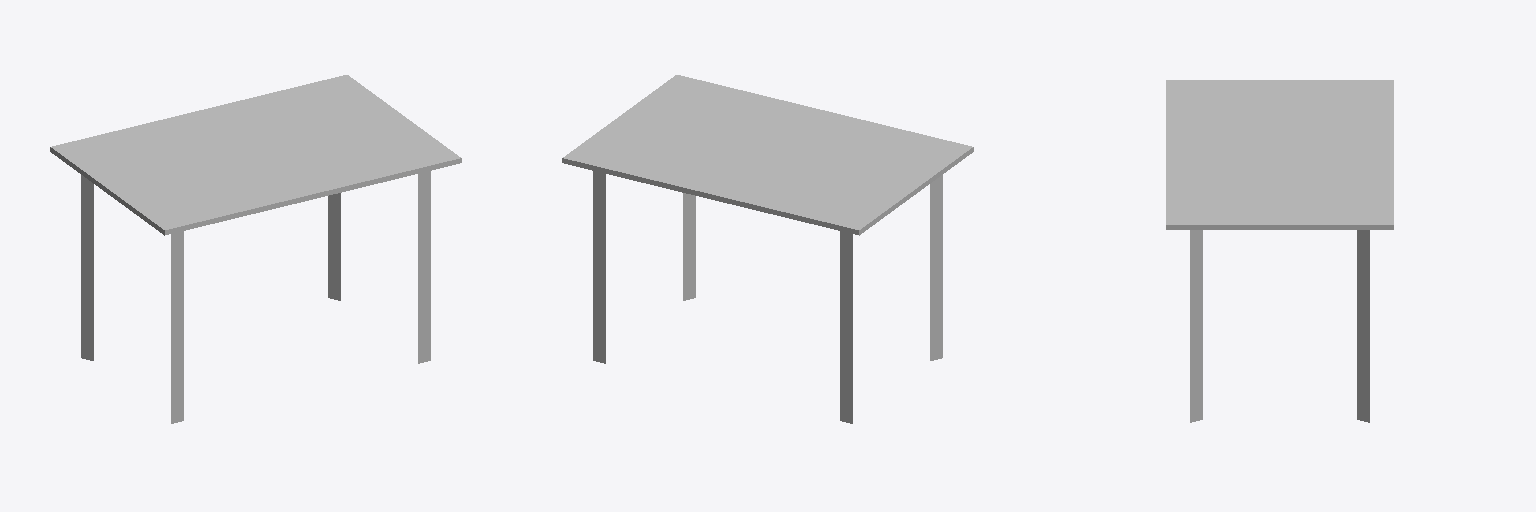
File: Desk.obj
3 views of the same model, side by side, from view 1: azimuth 30°, elevation 25°; view 2: azimuth 150°, elevation 25°; view 3: azimuth 270°, elevation 25° (orthographic).
Visible parts, largest first — view 1: object_5, object_2, object_1, object_4, object_3; view 2: object_5, object_3, object_4, object_1, object_2; view 3: object_5, object_2, object_3.
Boxes of the visible parts, x1,y1,x2,y2 form: object_5: [50, 75, 461, 235]; object_2: [418, 171, 430, 363]; object_1: [171, 231, 183, 423]; object_4: [81, 175, 93, 360]; object_3: [328, 193, 340, 300]; object_5: [562, 75, 973, 235]; object_3: [593, 171, 605, 363]; object_4: [840, 231, 852, 423]; object_1: [930, 175, 942, 360]; object_2: [683, 193, 695, 300]; object_5: [1166, 80, 1393, 229]; object_2: [1190, 230, 1202, 422]; object_3: [1357, 230, 1369, 422].
Size of the model in its own units: 120 by 80 by 80.